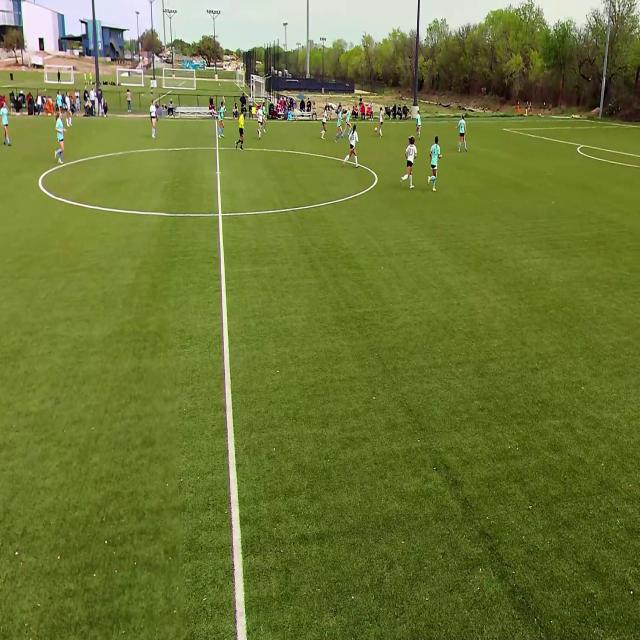ball: (374, 127, 378, 133)
team1: (430, 137, 442, 192), (56, 112, 68, 163), (0, 97, 11, 149), (457, 113, 467, 154), (336, 110, 345, 142), (415, 110, 423, 144), (220, 103, 227, 137), (346, 104, 351, 138), (56, 89, 62, 114), (263, 102, 267, 135)
team2: (402, 137, 418, 190), (344, 126, 358, 166), (150, 98, 160, 140), (65, 91, 74, 128), (320, 105, 329, 141), (377, 109, 384, 138), (258, 104, 263, 140)
